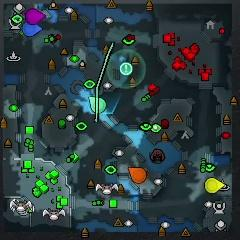Other: (121, 63, 133, 76)
p1: (23, 22, 42, 37)
p2: (89, 96, 106, 113)
p3: (25, 9, 45, 24)
p4: (205, 178, 223, 192)
p5: (129, 168, 146, 184)
